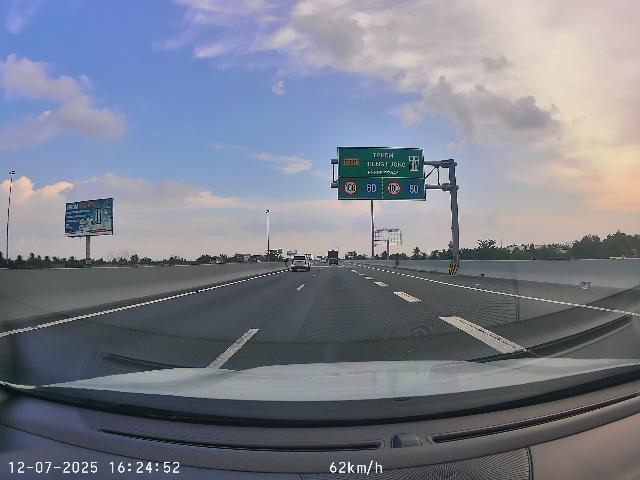127-toc-do-toi-da-100: (343, 179, 359, 196), (386, 180, 402, 196)
306-toc-do-toi-thieu-60: (363, 180, 380, 196), (406, 181, 422, 196)
437-bat-dau-duong-cao-toc: (409, 156, 419, 171)
